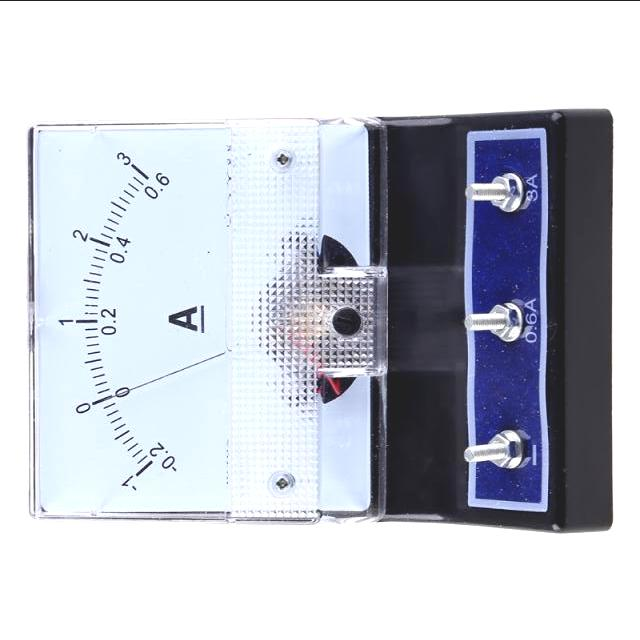Needle_Tip: (78, 369, 120, 434)
Needle_base: (287, 274, 412, 374)
max_value: (101, 117, 146, 195)
min_value: (103, 450, 150, 520)
